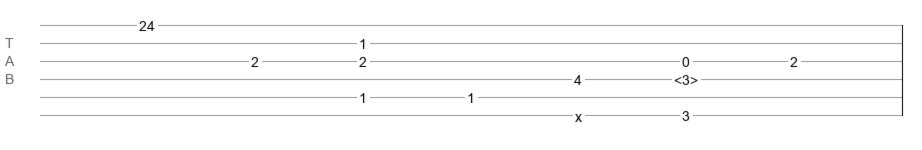0: (682, 54, 690, 64)
1: (359, 90, 367, 100), (359, 36, 367, 46), (467, 90, 475, 100)
2: (251, 54, 259, 64), (359, 54, 367, 64), (790, 54, 798, 64)
24: (139, 18, 155, 28)
3: (682, 108, 690, 118)
4: (574, 72, 582, 82)
harmonic: (674, 72, 698, 82)
x: (575, 109, 582, 117)
